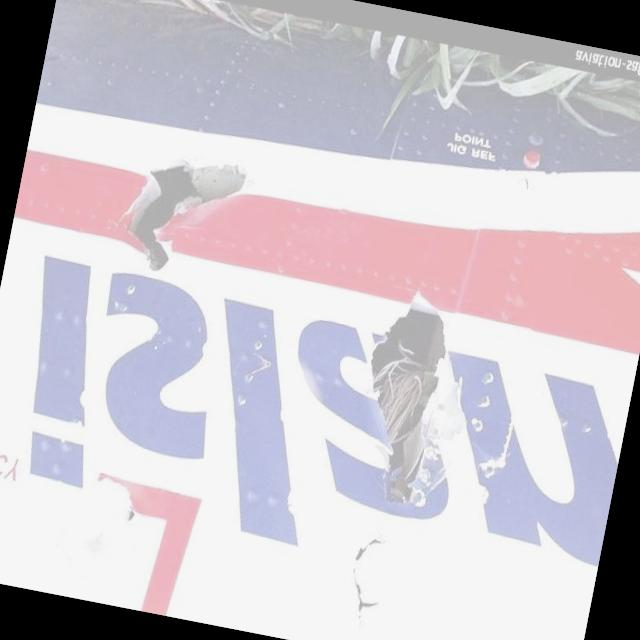crack: (338, 282, 461, 514), (106, 142, 250, 286), (336, 525, 401, 640), (119, 503, 138, 531)
